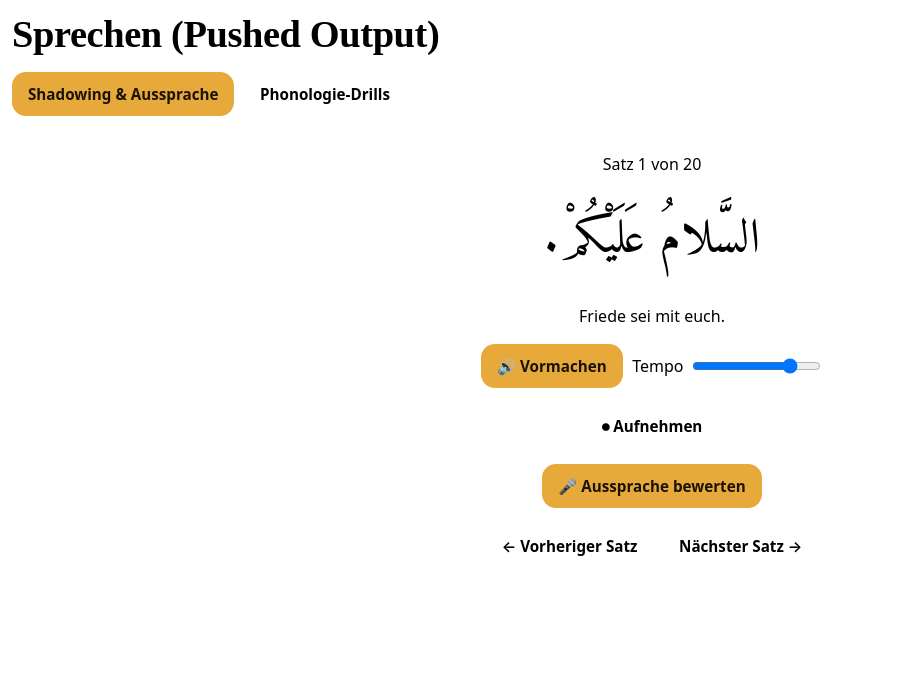
Test case: Speaking (integration, letter feedback) › says why the server could not rate it
Click the button "⏺ Aufnehmen": (652,426) [586,404,718,448]
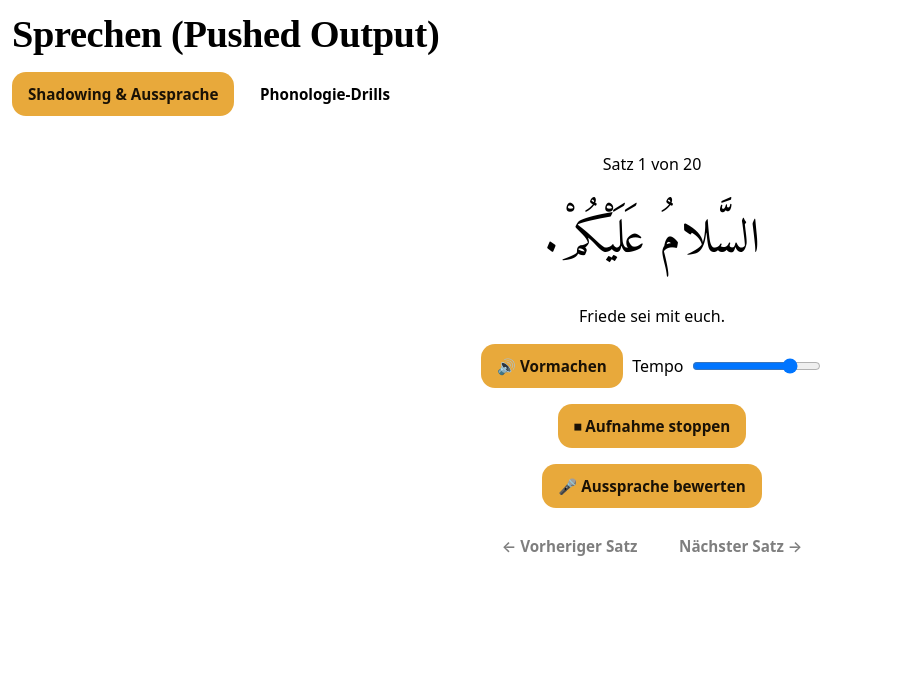
Click the button "⏹ Aufnahme stoppen": (652,426) [558,404,746,448]
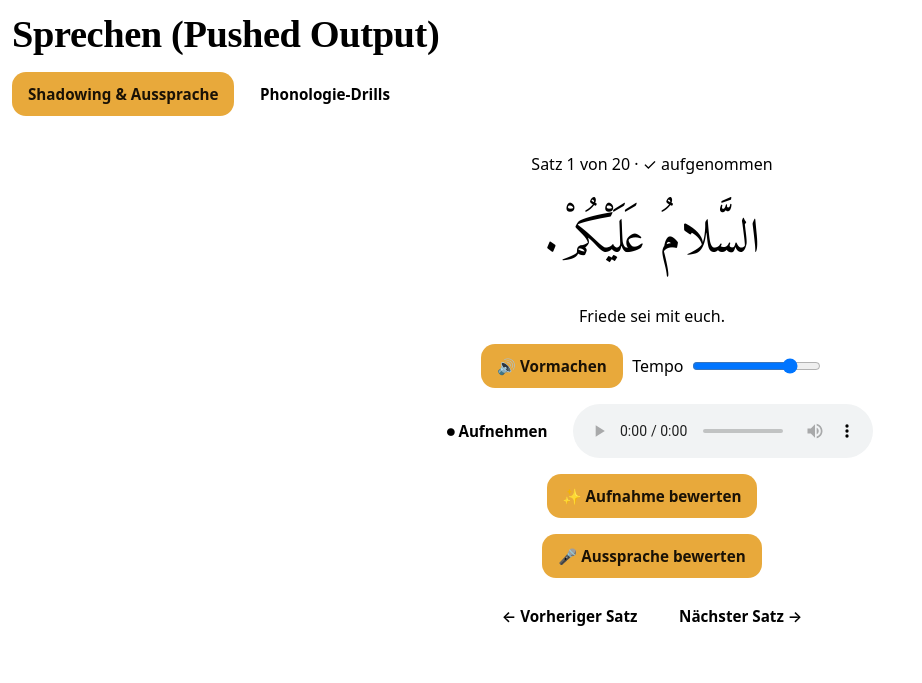
Click the button "✨ Aufnahme bewerten": (652,496) [546,474,757,518]
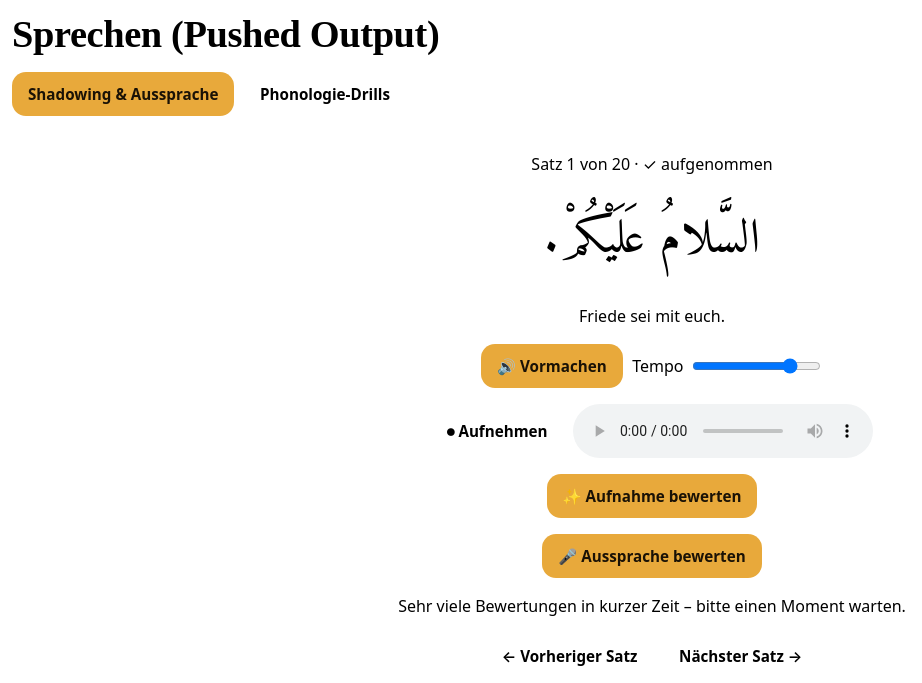
Check: the message shows "einen Moment warten", box [398,595,906,617]
